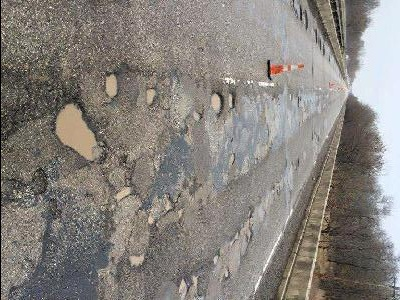pothole: (53, 98, 109, 163), (1, 166, 49, 202), (239, 207, 255, 252), (103, 70, 121, 99), (207, 89, 224, 116), (113, 184, 135, 202), (125, 251, 146, 268), (145, 85, 159, 106), (178, 276, 189, 300), (164, 193, 176, 213), (227, 90, 239, 109), (228, 151, 238, 167), (220, 267, 231, 281), (192, 273, 200, 292), (146, 212, 157, 225), (211, 252, 221, 266)
